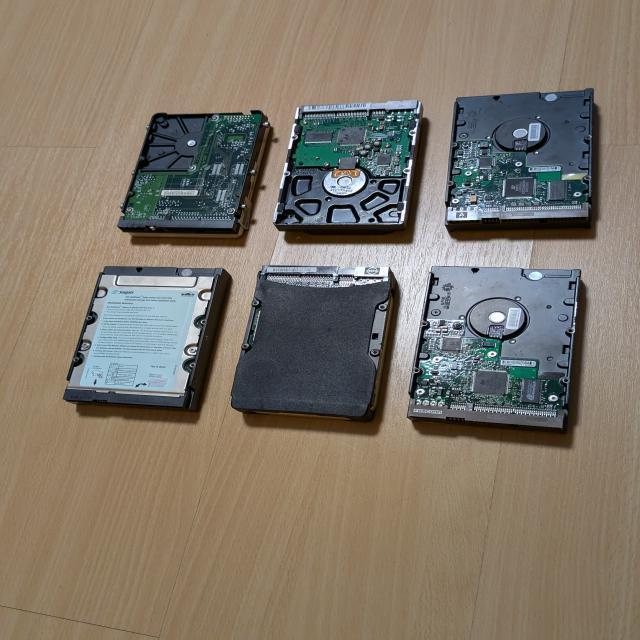DISK: (407, 265, 581, 435), (231, 264, 396, 422), (62, 266, 231, 414), (444, 88, 594, 232), (273, 99, 424, 236), (118, 110, 272, 240)
